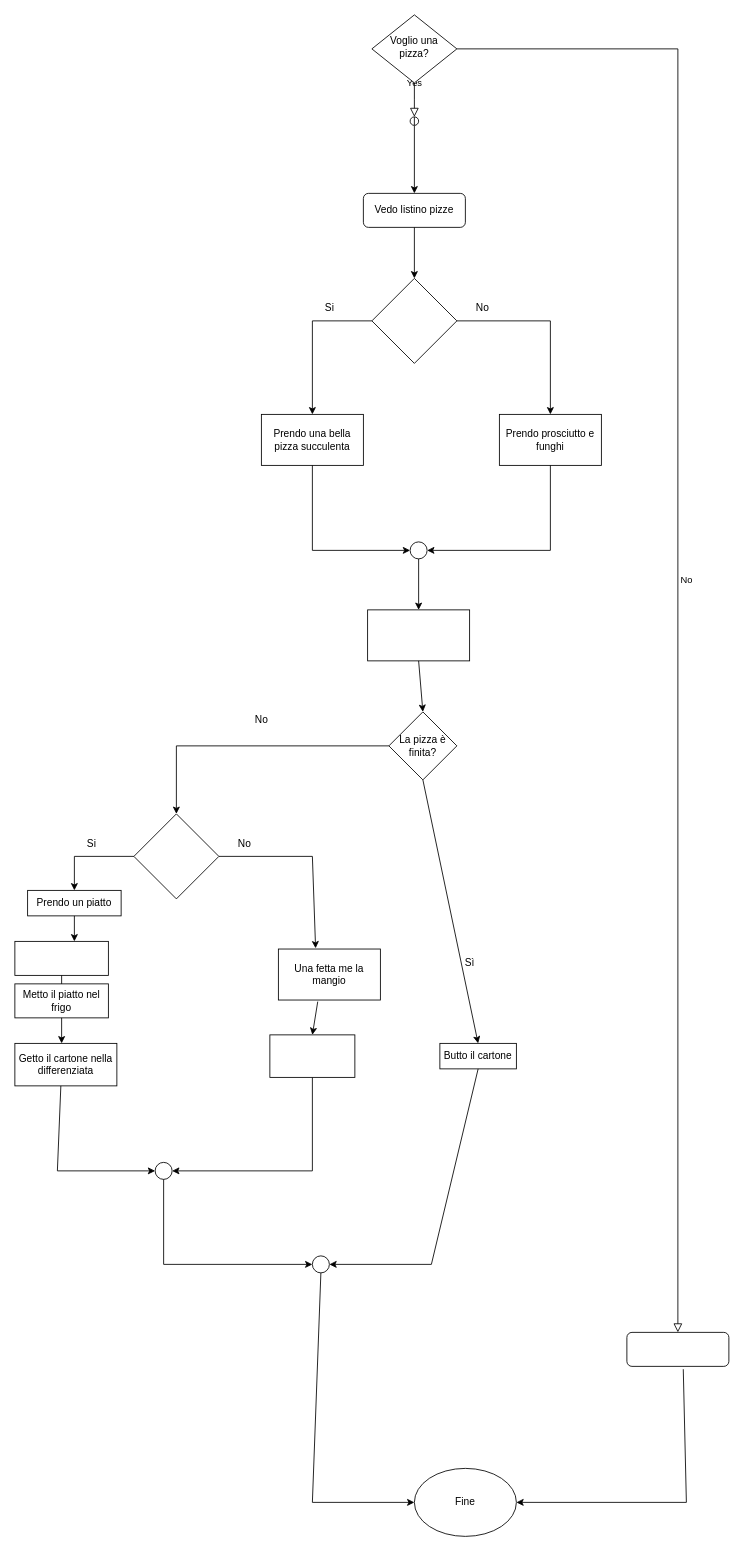
Some shapes in this 744 by 1551 pixel diagram are drawn without their labels. The shapes that lost their labels are listed below. From the top down, each one's centre as x and y in pixels, then its label:
the point at 414,320: C'è una pizza succulenta?
the point at 418,635: Mangio la pizza
the point at 176,856: Avanza solo una fetta?
the point at 61,958: Metto la pizza nel piatto
the point at 312,1055: Tutto il resto al gatto
the point at 677,1349: Ordino un kebab
